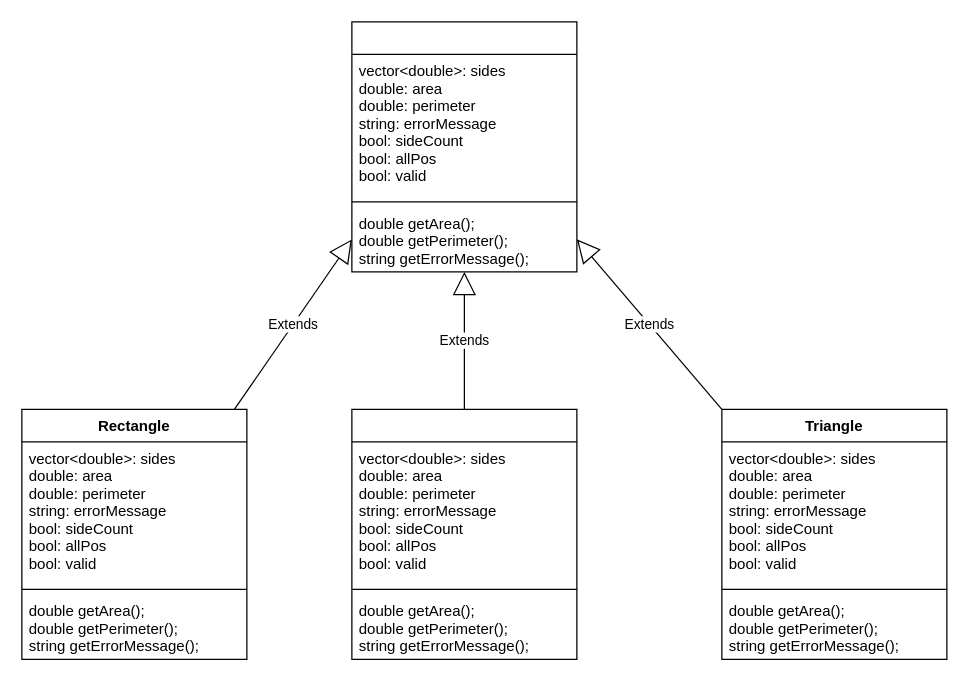
The diagram is 969 pixels wide and 685 high, and some of its shapes have lost their labels. The box of each missing label's shape, as (x1, y1, x2, y2) in pixels:
Circle: (351, 408, 577, 659)
Shape: (351, 21, 577, 272)
